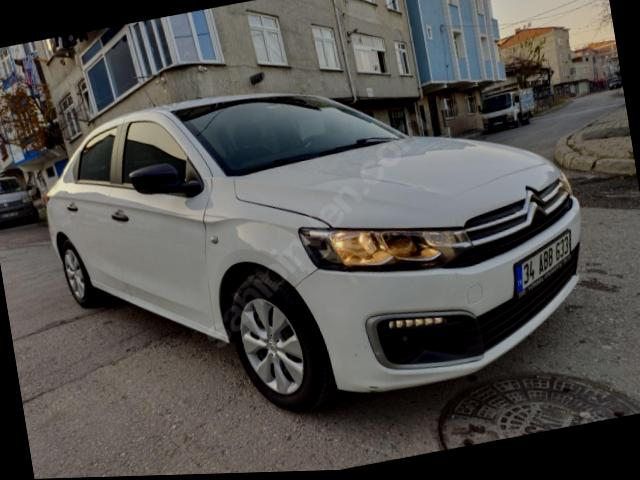plaka: (514, 229, 570, 299)
